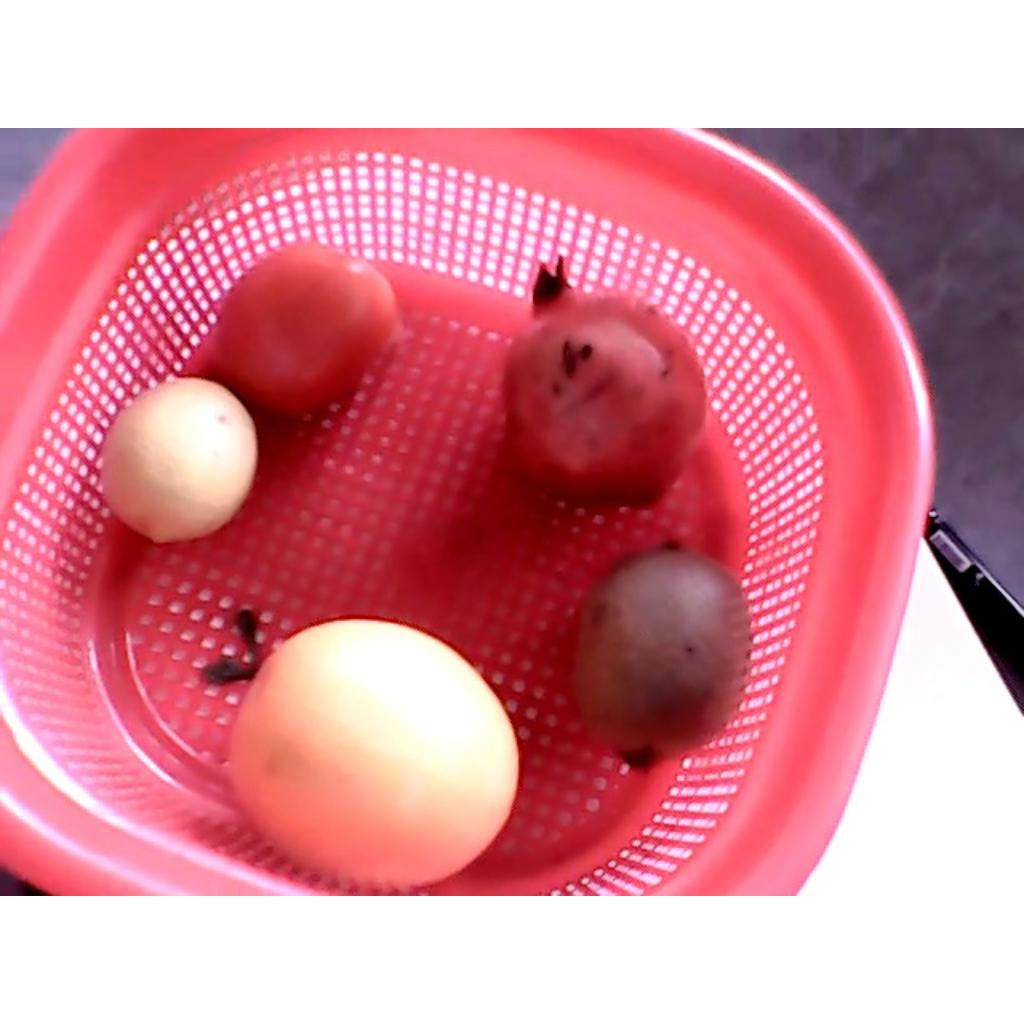kiwi: (566, 539, 749, 770)
lemon: (99, 379, 256, 543)
orange: (205, 610, 518, 890)
pomegranate: (500, 256, 706, 510)
tomato: (214, 239, 393, 418)
